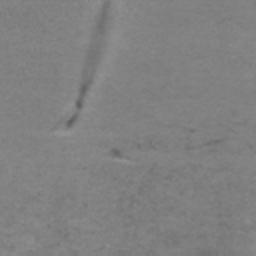Finishing roll printing: (63, 0, 114, 132), (100, 146, 133, 161)
